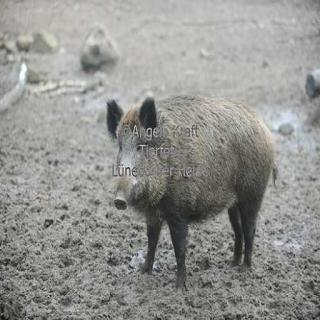Pig: (82, 70, 312, 276)
